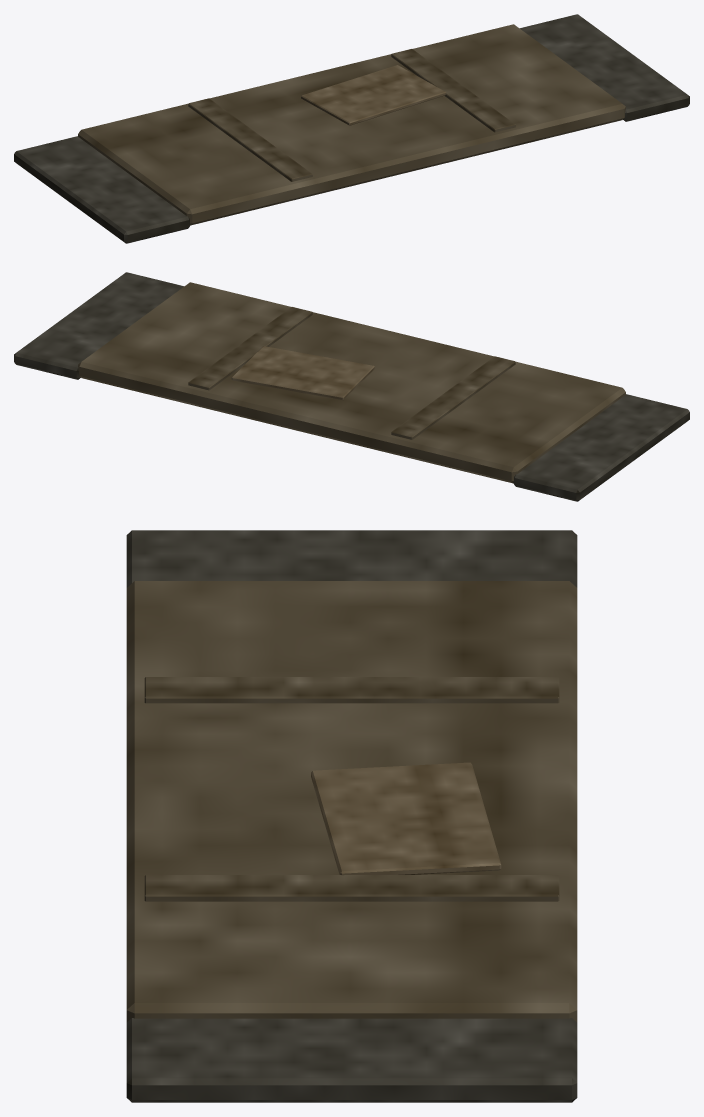
Rendered from MR_RoadSegment.fbx.
3 views of the same model, one above another, from view 1: azimuth 30°, elevation 25°; view 2: azimuth 150°, elevation 25°; view 3: azimuth 270°, elevation 25° (orthographic). The views are drawn at different scales.
Parts seen in each view (by area): view 1: MR_RoadSegment; view 2: MR_RoadSegment; view 3: MR_RoadSegment.
Boxes of the visible parts, box(x1,y1,x2,y2) form: MR_RoadSegment: box(14, 14, 689, 243); MR_RoadSegment: box(14, 272, 689, 501); MR_RoadSegment: box(126, 530, 577, 1102).
Bounding box in the file's own units: 2.9 × 0.113 × 1.
1 material, 1 textured.
